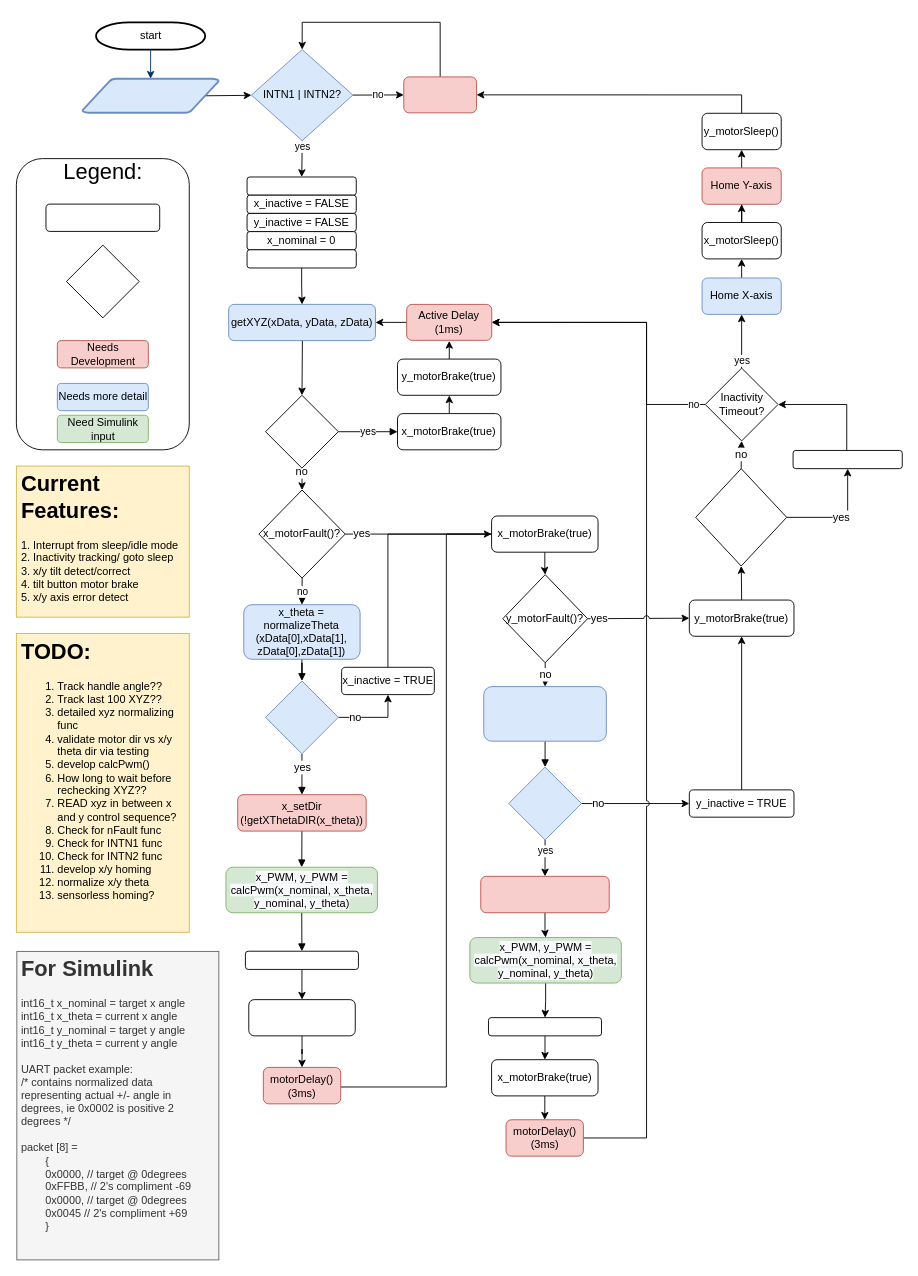
The diagram is 918 pixels wide and 1276 high, and some of its shapes have lost their labels. Here are the shapes that lost their labels. From the top down, the box of each, then its label:
(81, 77, 219, 113): Initialize Drivers
(403, 76, 477, 113): Idle Delay (10ms)
(246, 176, 356, 195): inactivity_counter=0
(45, 203, 160, 231): Command/Logic
(246, 249, 356, 268): y_nominal = 0
(66, 244, 139, 318): IF/check
(265, 394, 338, 468): nTilt Button?
(792, 450, 902, 469): inactivity_counter++
(695, 468, 787, 566): y_inactive && x_inactive?
(265, 680, 338, 754): Need X Correction?
(483, 686, 606, 741): y_theta = normalizeTheta (yData[0],yData[1], zData[0],zData[1])
(508, 766, 581, 840): Need Y Correction?
(480, 875, 609, 913): y_setDir (!getXThetaDIR(x_theta))
(245, 950, 358, 969): x_setPwm(x_PWM)
(248, 999, 355, 1036): x_motorBrake(false)
(488, 1017, 602, 1036): y_setPwm(y_PWM)
